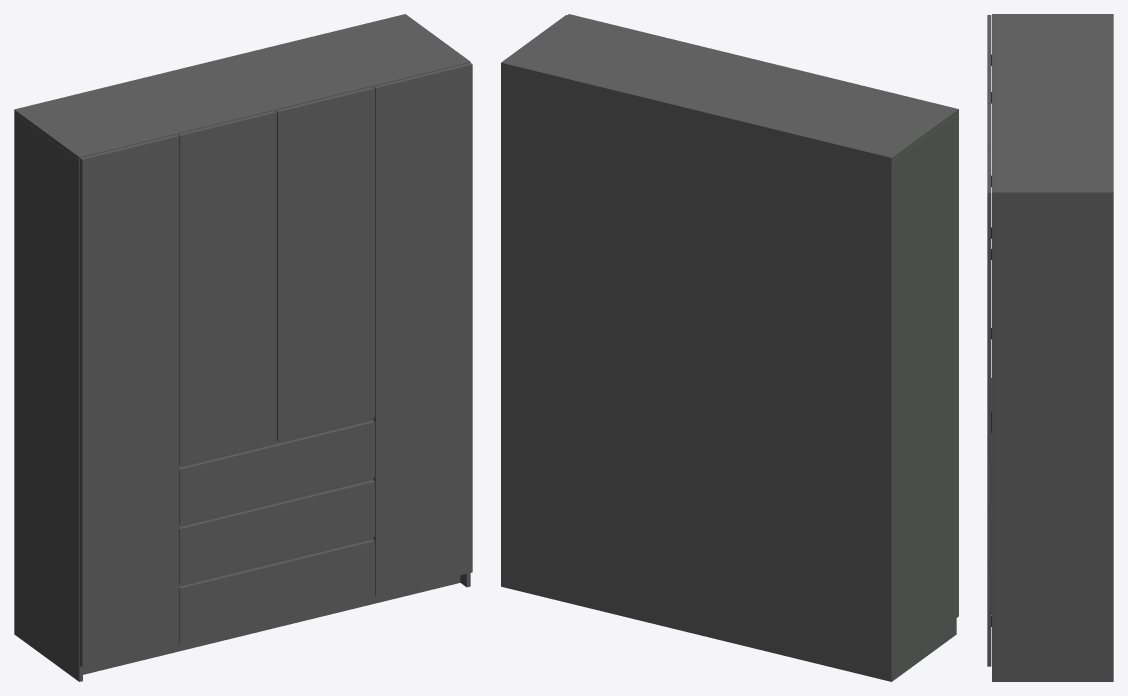
Rendered from wardrobe-07-center-drawers.glb.
The picture shows the model from 3 angles, left to right: view 1: azimuth 30°, elevation 25°; view 2: azimuth 150°, elevation 25°; view 3: azimuth 270°, elevation 25°; orthographic projection. The views are drawn at different scales.
Parts seen in each view (by area): view 1: Door_Outer_Left_Panel_Tile_ccc, Door_Outer_Right_Panel_Tile_ccc, Panel_Side_Left_Tile_ccc, Door_Center_Right_Panel_Tile_ccc, Door_Center_Left_Panel_Tile_ccc, Panel_Top_Tile_ccc, Drawer_02_Front_Tile_ccc, Drawer_03_Front_Tile_ccc, Drawer_01_Front_Tile_ccc, Plinth_Front_Tile_ccc, Door_Outer_Left_Panel_Tile_mcc, Panel_Top_Tile_ccp; view 2: Panel_Back_Tile_ccc, Panel_Side_Left_Tile_ccc, Panel_Top_Tile_ccc, Door_Outer_Left_Panel_Tile_mcc, Panel_Back_Tile_mcc; view 3: Panel_Side_Right_Tile_ccc, Panel_Top_Tile_ccc, Door_Outer_Right_Panel_Tile_pcc, Panel_Back_Tile_pcc, Panel_Side_Right_Tile_ccp, Panel_Side_Right_Tile_ccm, Panel_Top_Tile_pcc, Panel_Back_Tile_cpc, Door_Center_Left_Panel_Tile_cpc, Door_Outer_Right_Panel_Tile_cpc, Door_Outer_Left_Panel_Tile_cpc, Door_Center_Right_Panel_Tile_cpc.
Boxes of the visible parts, box(x1,y1,x2,y2) form: Door_Outer_Left_Panel_Tile_ccc: box(82, 136, 179, 667); Door_Outer_Right_Panel_Tile_ccc: box(376, 64, 472, 595); Panel_Side_Left_Tile_ccc: box(14, 114, 79, 681); Door_Center_Right_Panel_Tile_ccc: box(278, 88, 374, 440); Door_Center_Left_Panel_Tile_ccc: box(180, 112, 276, 464); Panel_Top_Tile_ccc: box(15, 14, 469, 156); Drawer_02_Front_Tile_ccc: box(180, 481, 374, 583); Drawer_03_Front_Tile_ccc: box(180, 422, 374, 524); Drawer_01_Front_Tile_ccc: box(180, 541, 374, 643); Plinth_Front_Tile_ccc: box(83, 575, 460, 674); Door_Outer_Left_Panel_Tile_mcc: box(80, 158, 82, 667); Panel_Top_Tile_ccp: box(79, 61, 470, 160); Panel_Back_Tile_ccc: box(501, 63, 891, 681); Panel_Side_Left_Tile_ccc: box(892, 115, 956, 680); Panel_Top_Tile_ccc: box(502, 15, 955, 157); Door_Outer_Left_Panel_Tile_mcc: box(956, 109, 958, 617); Panel_Back_Tile_mcc: box(891, 158, 892, 681); Panel_Side_Right_Tile_ccc: box(992, 196, 1112, 681); Panel_Top_Tile_ccc: box(992, 14, 1112, 191); Door_Outer_Right_Panel_Tile_pcc: box(987, 193, 991, 666); Panel_Back_Tile_pcc: box(1112, 192, 1113, 681); Panel_Side_Right_Tile_ccp: box(992, 196, 992, 681); Panel_Side_Right_Tile_ccm: box(1112, 196, 1112, 681); Panel_Top_Tile_pcc: box(992, 192, 1112, 195); Panel_Back_Tile_cpc: box(1112, 14, 1113, 191); Door_Center_Left_Panel_Tile_cpc: box(987, 59, 991, 103); Door_Outer_Right_Panel_Tile_cpc: box(987, 148, 991, 192); Door_Outer_Left_Panel_Tile_cpc: box(987, 15, 991, 58); Door_Center_Right_Panel_Tile_cpc: box(987, 104, 991, 147).
Size of the model in its own units: 1.6 by 2.05 by 0.48.
Materials: 358 (357 with a texture image).
